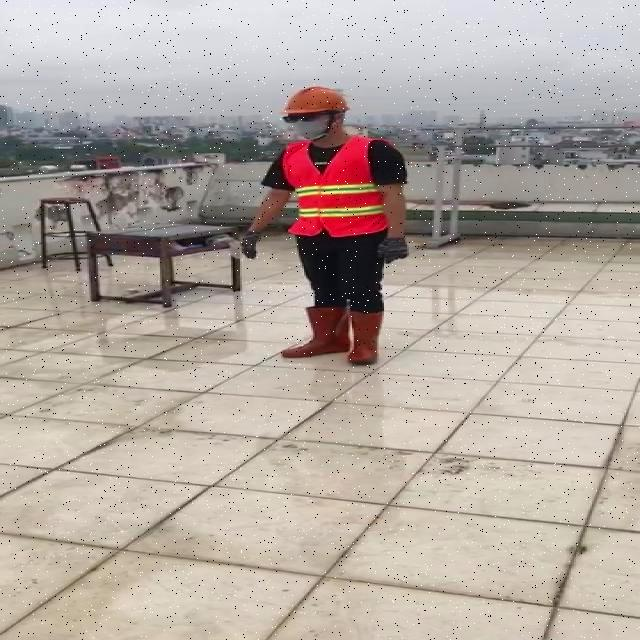Hard_hat: (278, 84, 357, 114)
Person: (234, 85, 414, 423)
Vest: (288, 132, 386, 238)
